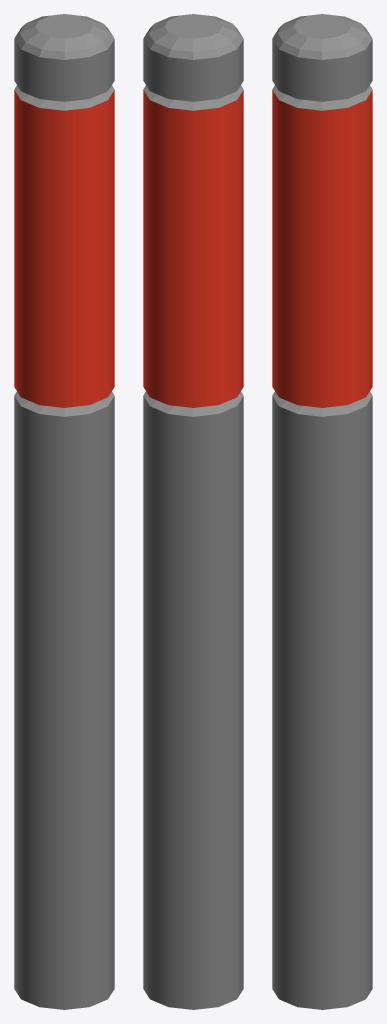
File: SM_signal_rod_01.fbx
The picture shows the model from 3 angles, left to right: view 1: azimuth 90°, elevation 25°; view 2: azimuth 210°, elevation 25°; view 3: azimuth 270°, elevation 25°; orthographic projection.
Parts seen in each view (by area): view 1: signal_rod_01; view 2: signal_rod_01; view 3: signal_rod_01.
Part boxes in pixels (x1=…): signal_rod_01: x1=14, y1=14, x2=114, y2=1009; signal_rod_01: x1=143, y1=14, x2=243, y2=1009; signal_rod_01: x1=272, y1=14, x2=372, y2=1009.
Bounding box in the file's own units: 11.52 × 122 × 11.52.
